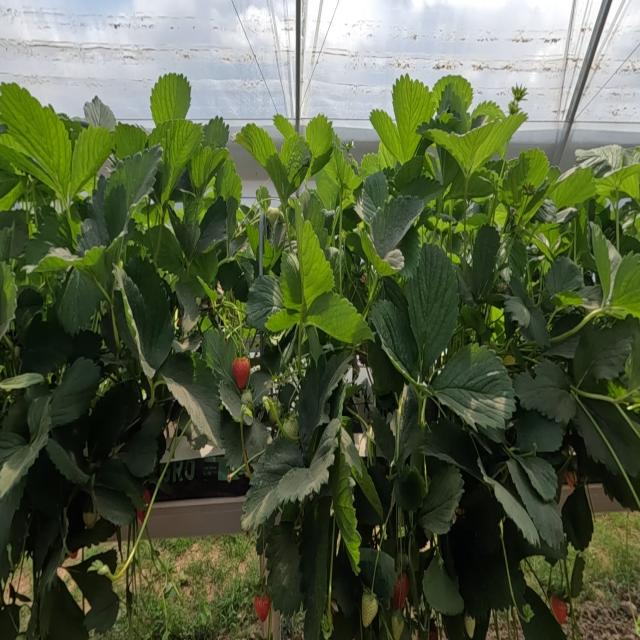Leaves: (448, 479, 511, 627), (1, 84, 70, 198), (433, 345, 515, 431), (405, 245, 459, 375), (576, 398, 639, 506), (115, 258, 174, 373), (242, 437, 302, 532), (160, 356, 220, 446), (297, 351, 351, 448), (0, 401, 50, 500), (105, 147, 161, 235), (429, 116, 504, 177), (148, 120, 203, 201), (87, 382, 139, 461), (291, 212, 334, 307), (236, 124, 289, 200), (514, 360, 575, 425), (573, 320, 638, 381), (370, 300, 417, 378), (300, 491, 333, 600), (392, 75, 434, 160), (500, 150, 549, 221), (50, 358, 101, 426), (265, 519, 301, 615), (421, 420, 480, 478), (330, 454, 359, 572), (418, 459, 463, 535), (306, 292, 371, 344), (92, 459, 142, 526), (69, 126, 113, 196), (71, 569, 119, 633), (371, 197, 423, 256), (23, 236, 102, 274), (220, 413, 271, 471), (20, 318, 71, 375), (506, 281, 550, 347), (58, 271, 103, 334), (423, 548, 463, 615), (466, 225, 500, 300), (589, 222, 620, 301), (0, 479, 24, 579), (46, 581, 87, 639), (78, 180, 109, 253), (246, 275, 285, 331), (575, 144, 640, 177), (562, 484, 594, 551), (521, 592, 566, 639), (548, 167, 596, 211), (516, 408, 563, 451), (143, 225, 184, 274), (150, 73, 190, 123), (607, 252, 639, 314), (514, 456, 559, 500), (118, 428, 158, 477), (545, 309, 584, 359), (46, 438, 87, 484), (203, 329, 235, 386), (370, 110, 403, 165), (354, 171, 387, 222), (197, 197, 227, 252), (189, 147, 227, 188), (306, 113, 333, 169), (38, 206, 72, 249), (546, 257, 583, 295), (433, 75, 473, 110), (34, 520, 59, 572), (0, 216, 29, 260), (398, 176, 443, 204), (114, 124, 146, 159), (84, 96, 115, 130), (219, 155, 241, 201), (219, 380, 242, 421), (504, 296, 530, 327), (202, 117, 228, 147)
Strawberries: (391, 572, 409, 609), (362, 589, 378, 627), (232, 357, 249, 389), (137, 488, 152, 522), (550, 596, 567, 623), (254, 595, 270, 622), (391, 611, 404, 639), (83, 509, 100, 529), (464, 613, 475, 639), (563, 470, 576, 486)
